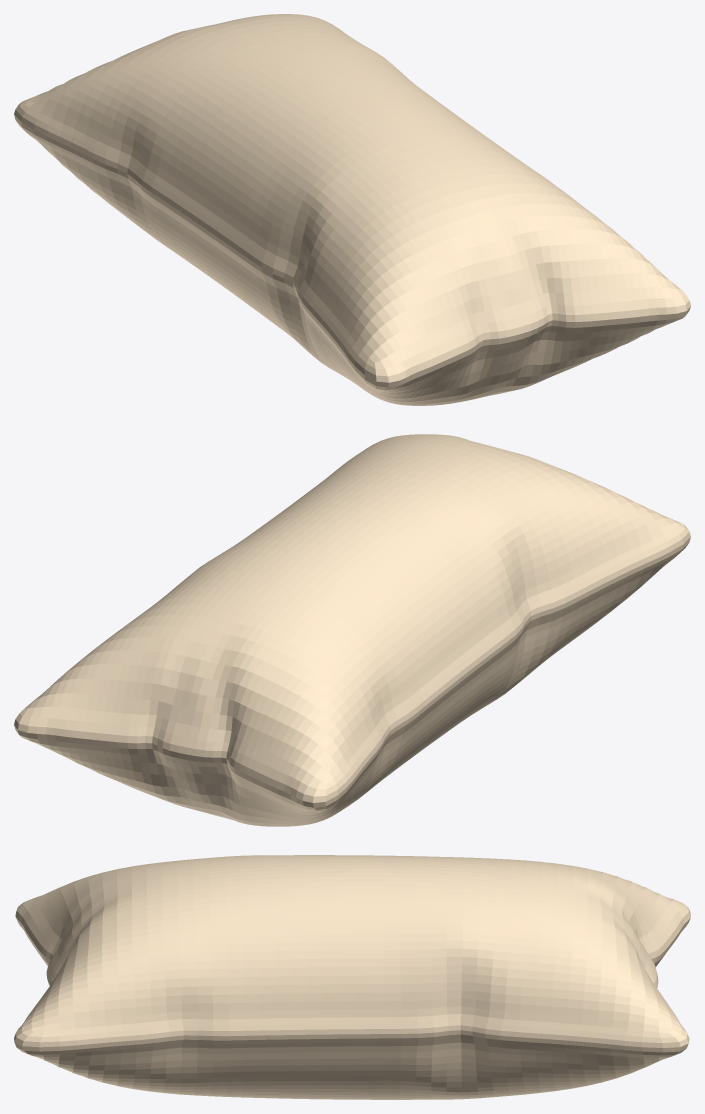
File: Sack.glb
3 renders of one model, top to bottom at view 1: azimuth 30°, elevation 25°; view 2: azimuth 150°, elevation 25°; view 3: azimuth 270°, elevation 25°, orthographic. The views are drawn at different scales.
Visible parts, largest first — view 1: Plane; view 2: Plane; view 3: Plane.
Part boxes in pixels (x1=…): Plane: x1=14, y1=14, x2=690, y2=405; Plane: x1=14, y1=434, x2=690, y2=826; Plane: x1=14, y1=855, x2=690, y2=1099.
Size of the model in its own units: 1.88 by 1.35 by 3.81.
